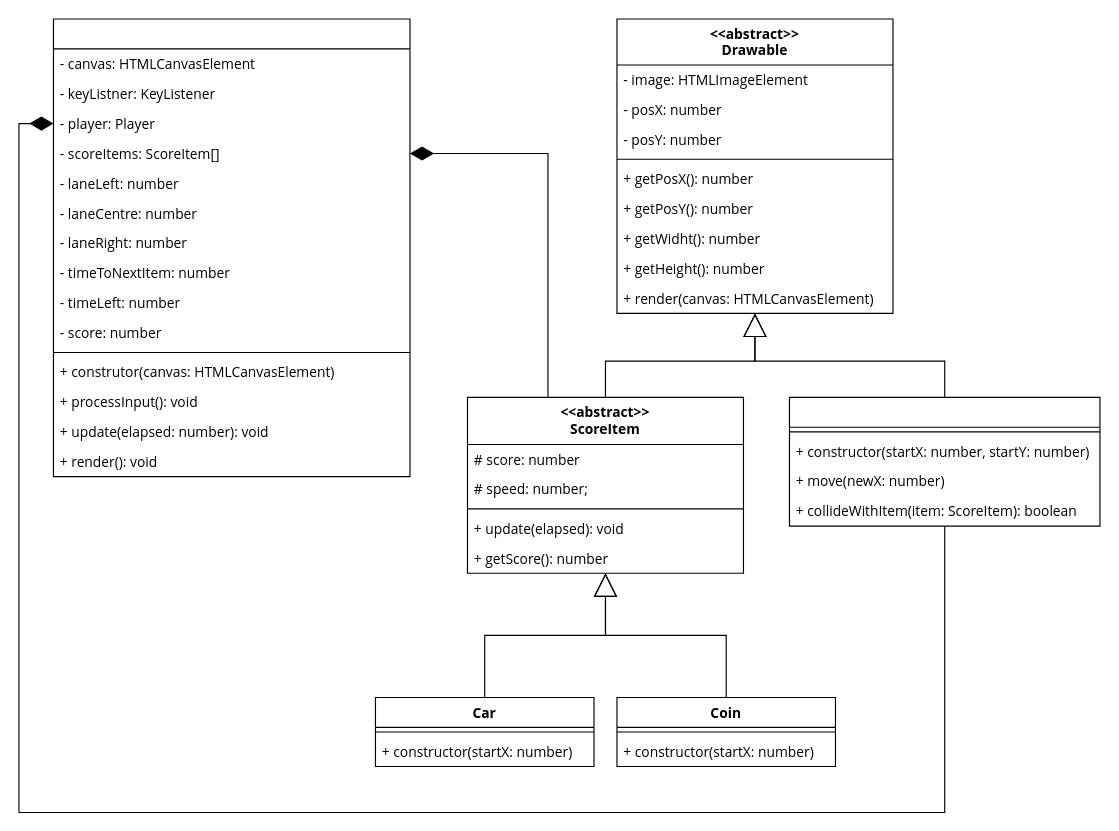
This 1119x831 diagram has some shape labels left out. The shapes that lost their labels are listed below. From the top down, each one's box as (x1, y1, x2, y2) in pixels, then its label:
(52, 18, 410, 477): DareDriver
(788, 396, 1100, 526): Player
